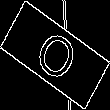O_SW: (28, 22, 82, 88)
